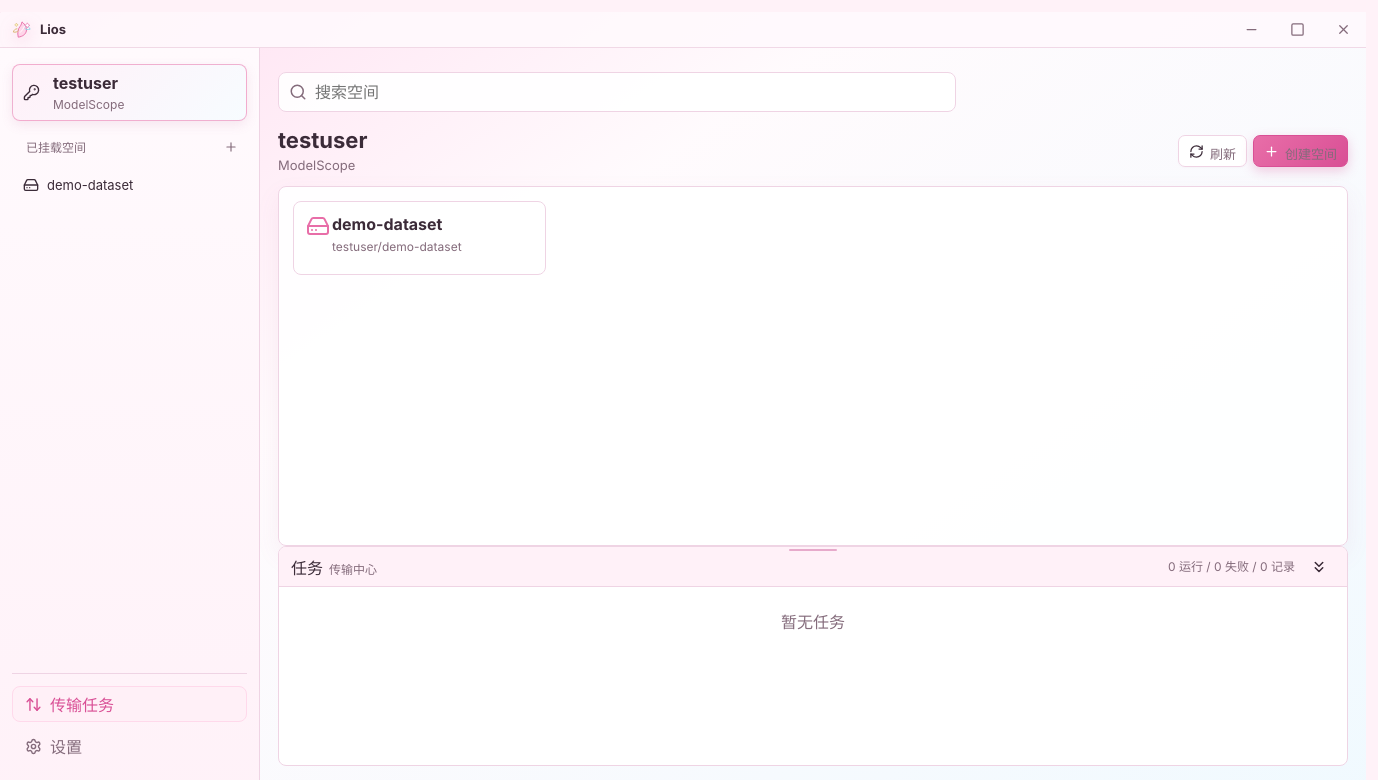
Test case: Breadcrumb navigation › resets query, search results, and selection when navigating via breadcrumbs
This screenshot has width=1378, height=780.
Note: Click on the space card to enter Drive view
Click the button "demo-dataset" at (128,185), box [12,167,245,203]
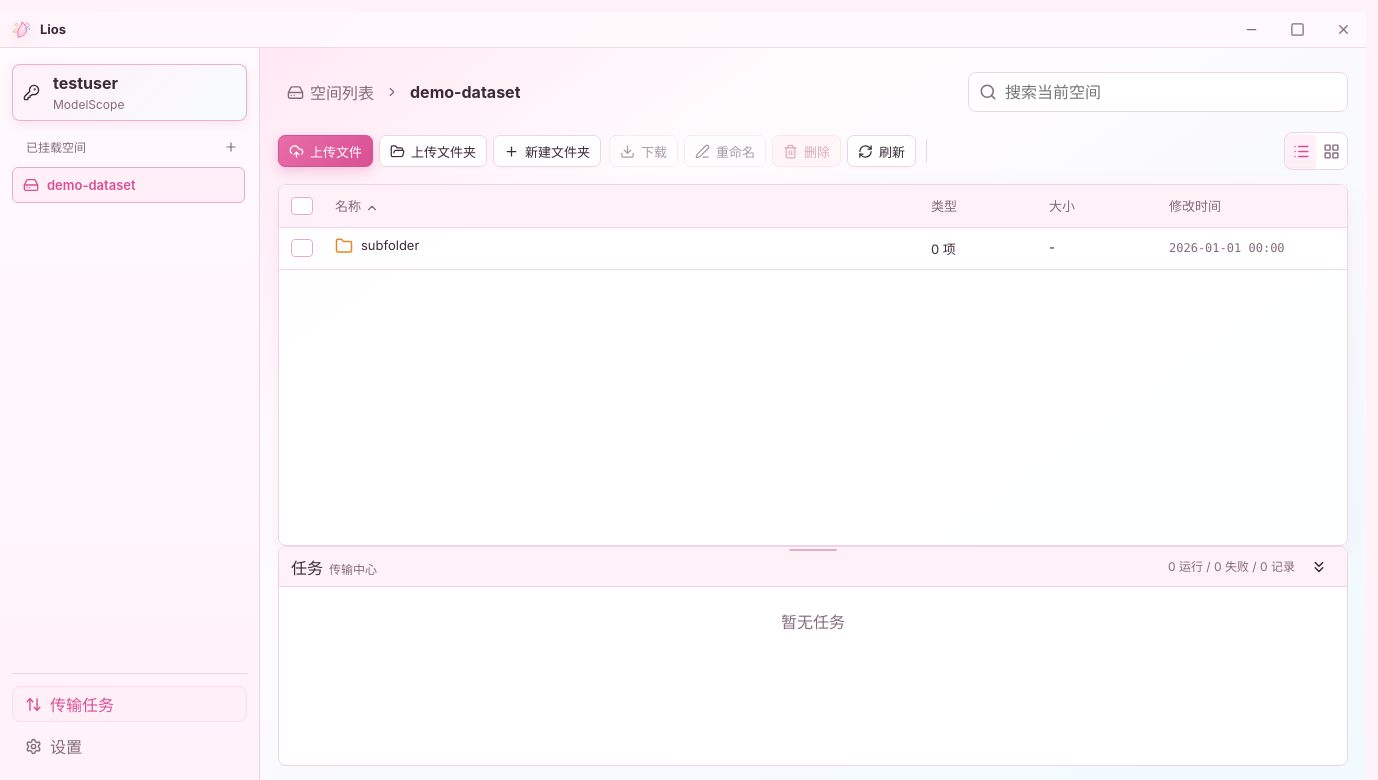
Result: the text "subfolder" is shown
Note: Enter subfolder by clicking the folder button
Double-click the text "subfolder" at (390,246), box [361,238,419,254]
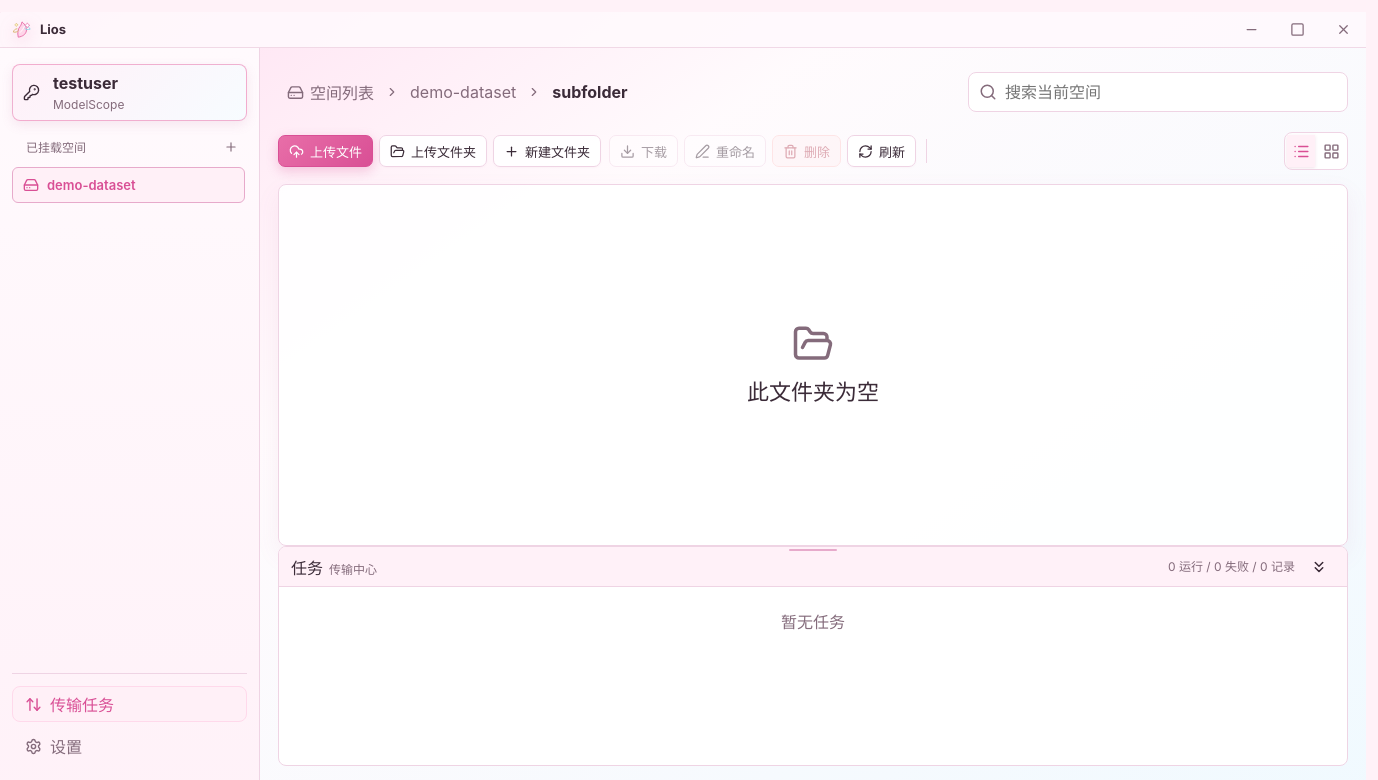
Result: the heading "此文件夹为空" is shown at [747,375,879,407]
Note: Search something
Type "search-term" into the field with placeholder "搜索当前空间" at (1171,92), box [1005,79,1337,105]
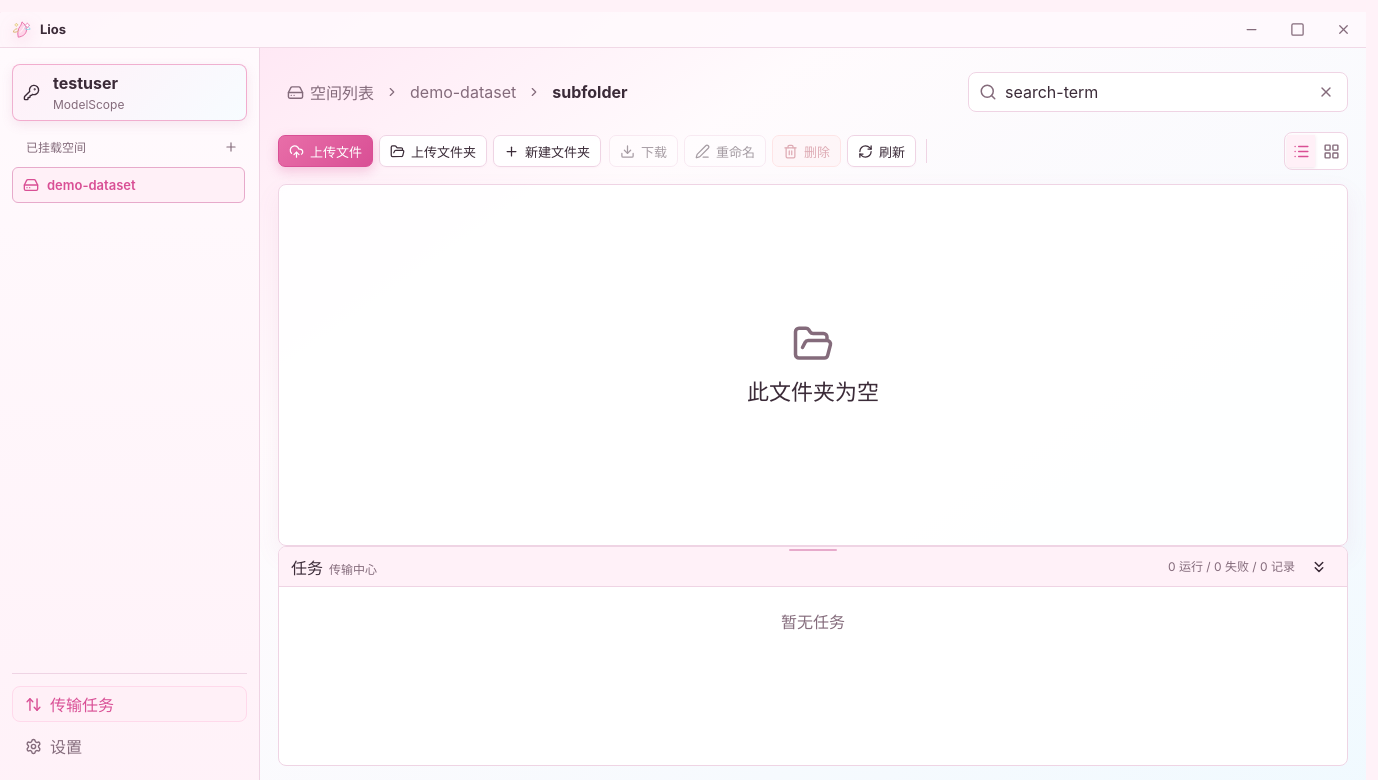
Press Enter in the field with placeholder "搜索当前空间", box [1005,79,1307,105]
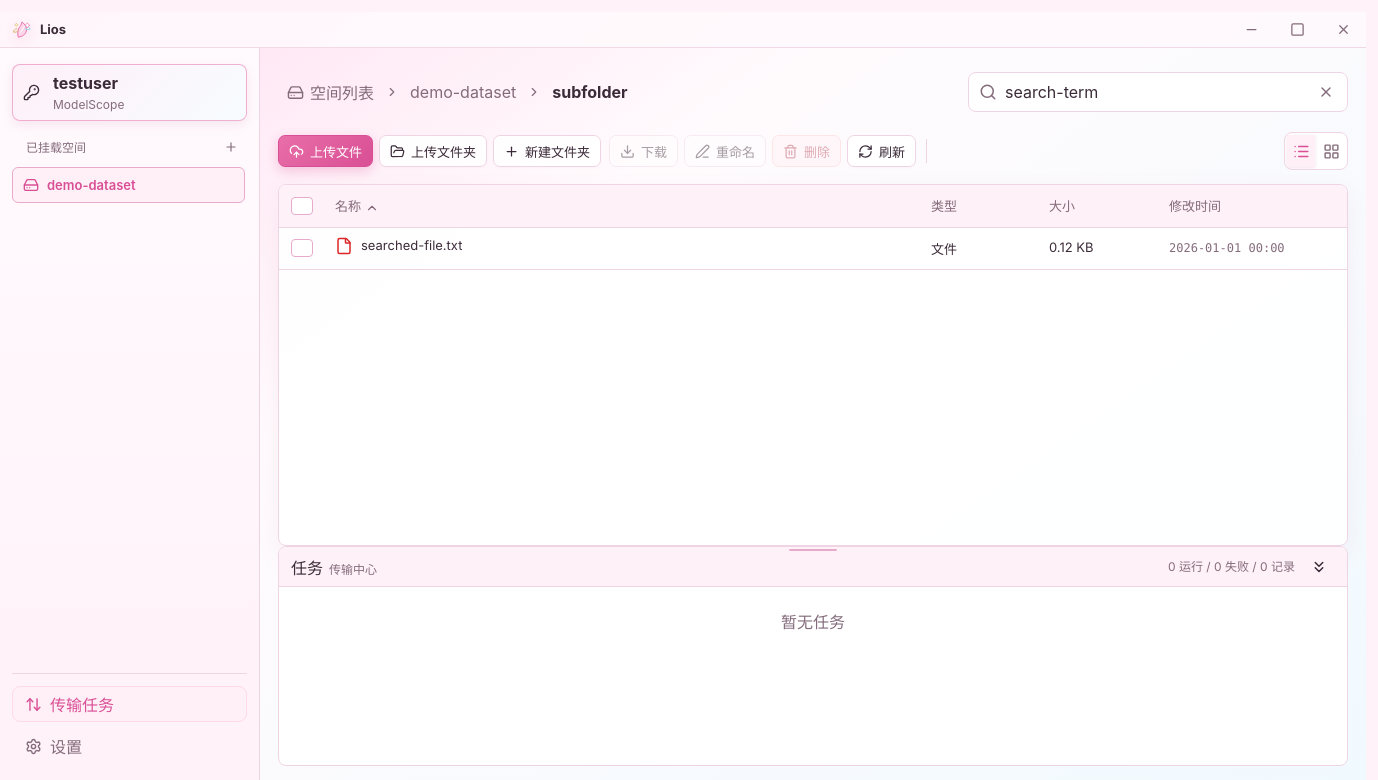
Result: the text "searched-file.txt" is shown at [361,238,462,254]
Note: checkboxes[0] is select all, checkboxes[1] is the item
Click the checkbox named "选择 searched-file.txt" at (302,248), box [291,239,313,257]
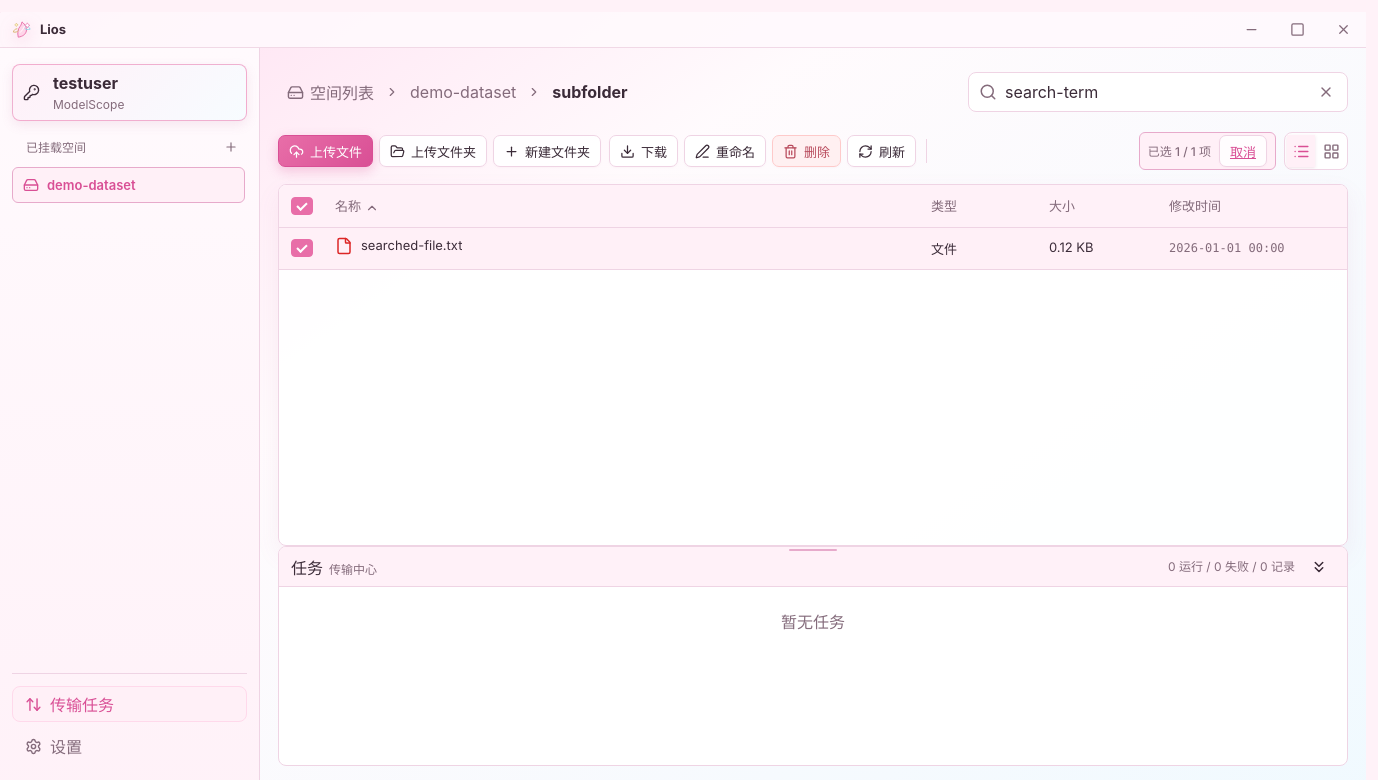
Result: the text "已选 1 / 1 项" is shown at [1148,142,1211,160]
Note: Find breadcrumb for demo-dataset (root of space)
Click the button with aria-label "转到路径：demo-dataset" at (463,92), box [401,74,525,110]
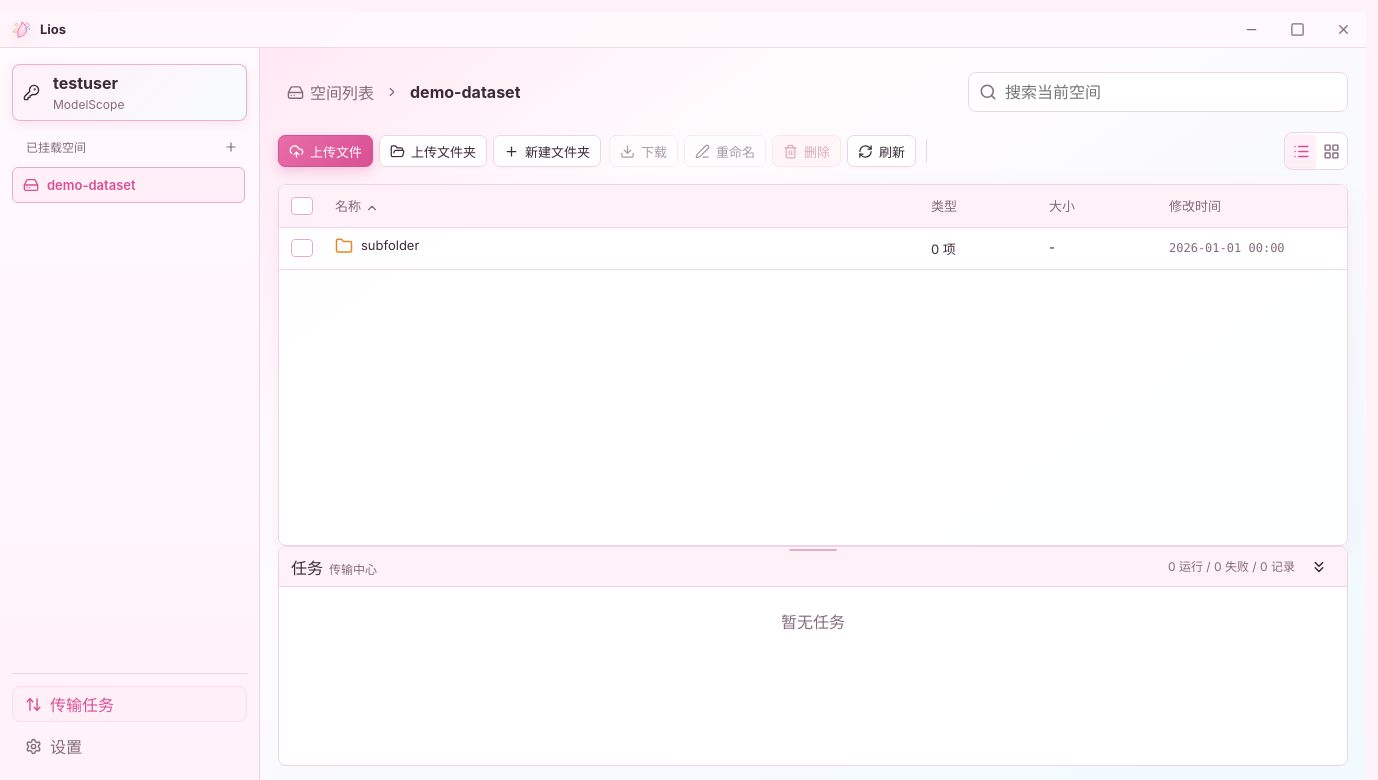
Result: the field with placeholder "搜索当前空间" is empty at [1005,79,1337,105]
Result: the text "searched-file.txt" is gone
Result: the text "已选" is gone
